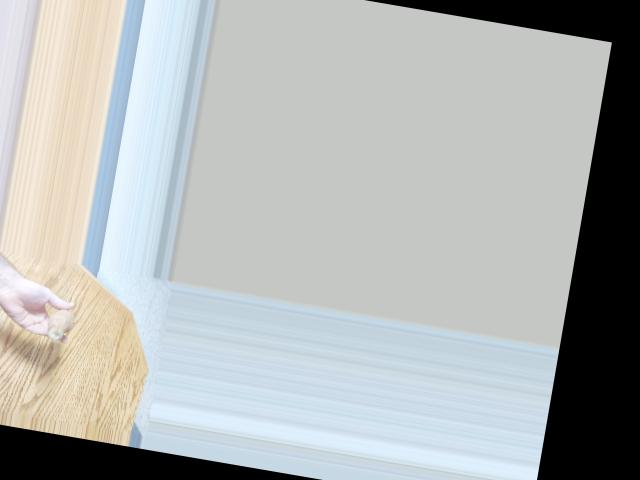sweet_potato: (46, 303, 86, 344)
